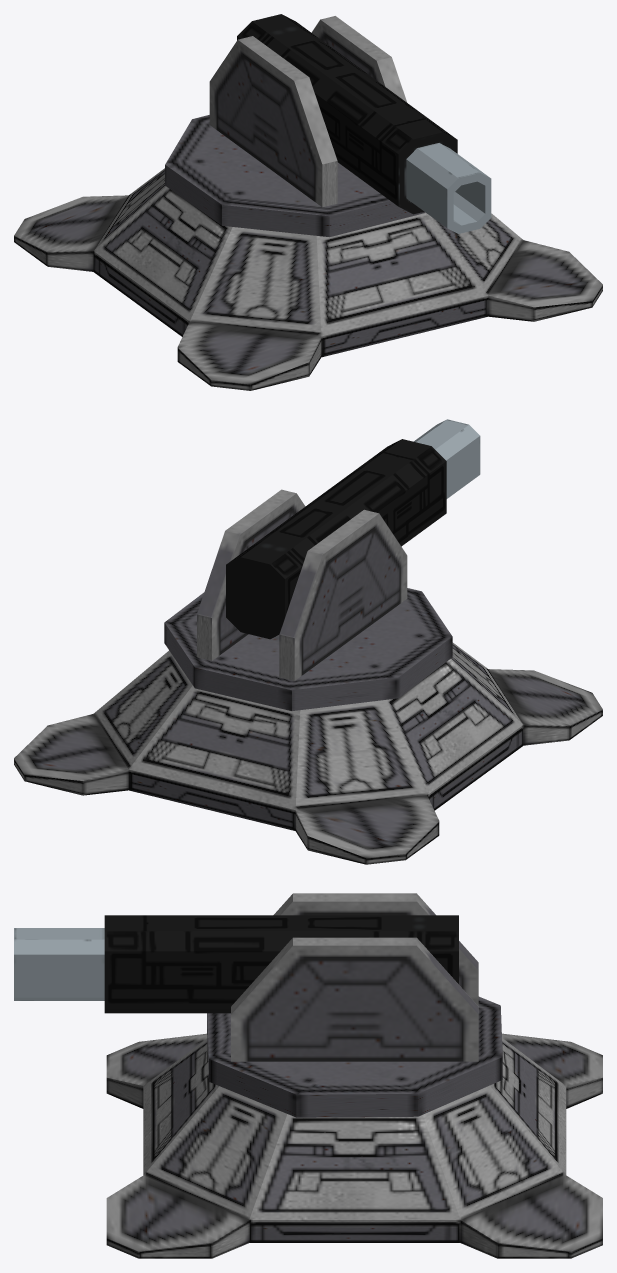
Rendered from Turret1.fbx.
3 views of the same model, one above another, from view 1: azimuth 30°, elevation 25°; view 2: azimuth 150°, elevation 25°; view 3: azimuth 270°, elevation 25° (orthographic). The views are drawn at different scales.
Parts seen in each view (by area): view 1: TurretBase, TurretCannon, TurretUpperCap, TurretArm1, TurretArm; view 2: TurretBase, TurretCannon, TurretUpperCap, TurretArm1, TurretArm; view 3: TurretBase, TurretCannon, TurretArm, TurretUpperCap, TurretArm1.
Part boxes in pixels (box(x1,y1,x2,y2)): TurretBase: box(14, 168, 602, 390); TurretCannon: box(237, 14, 491, 233); TurretUpperCap: box(165, 115, 425, 237); TurretArm1: box(209, 36, 337, 207); TurretArm: box(311, 16, 407, 102); TurretBase: box(14, 642, 602, 864); TurretCannon: box(226, 419, 480, 639); TurretUpperCap: box(164, 588, 452, 710); TurretArm1: box(279, 509, 407, 680); TurretArm: box(197, 489, 305, 660); TurretBase: box(106, 1033, 602, 1258); TurretCannon: box(14, 915, 458, 1013); TurretArm: box(231, 937, 478, 1061); TurretUpperCap: box(207, 996, 502, 1117); TurretArm1: box(273, 893, 478, 1005).
Bounding box in the file's own units: 0.7477 × 0.395 × 0.8875.
